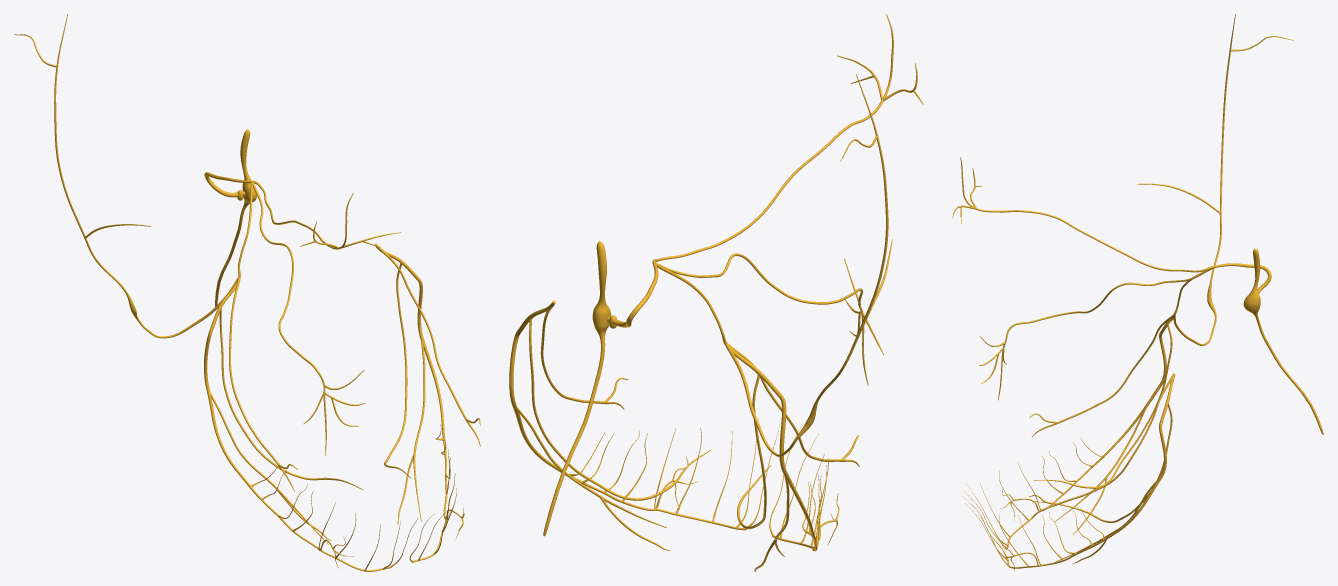
The model's file is nervoso-trigeminal-nerve-v-r.glb.
3 views of the same model, side by side, from view 1: azimuth 30°, elevation 25°; view 2: azimuth 150°, elevation 25°; view 3: azimuth 270°, elevation 25° (orthographic). The views are drawn at different scales.
Parts seen in each view (by area): view 1: Meningeal branch of maxillary nerve.r, Inferior alveolar nerve.r, Maxillary nerve.r, Inferior alveolar nerve.l, Sensory root of trigeminal nerve.r, Ophthalmic nerve.r, Lingual nerve.r, Trigeminal nerve (V).r, Lingual nerve.l, Nerve to mylohyoid muscle.l; view 2: Meningeal branch of maxillary nerve.r, Inferior alveolar nerve.l, Sensory root of trigeminal nerve.r, Ophthalmic nerve.r, Inferior alveolar nerve.r, Maxillary nerve.r, Lingual nerve.l, Trigeminal nerve (V).r, Nerve to mylohyoid muscle.l, Lingual nerve.r, Posterior division of mandibular nerve.r, Posterior division of mandibular nerve.l; view 3: Meningeal branch of maxillary nerve.r, Inferior alveolar nerve.l, Inferior alveolar nerve.r, Sensory root of trigeminal nerve.r, Ophthalmic nerve.r, Maxillary nerve.r, Lingual nerve.r, Nerve to mylohyoid muscle.r.
Boxes of the visible parts, box(x1,y1,x2,y2) form: Meningeal branch of maxillary nerve.r: box(14, 14, 238, 338); Inferior alveolar nerve.r: box(206, 388, 418, 571); Maxillary nerve.r: box(252, 182, 365, 455); Inferior alveolar nerve.l: box(409, 336, 460, 562); Sensory root of trigeminal nerve.r: box(215, 129, 256, 306); Ophthalmic nerve.r: box(252, 180, 401, 249); Lingual nerve.r: box(219, 309, 363, 489); Trigeminal nerve (V).r: box(204, 172, 253, 277); Lingual nerve.l: box(384, 263, 411, 478); Nerve to mylohyoid muscle.l: box(397, 339, 425, 524); Meningeal branch of maxillary nerve.r: box(725, 74, 892, 456); Inferior alveolar nerve.l: box(513, 405, 780, 530); Sensory root of trigeminal nerve.r: box(543, 241, 611, 536); Ophthalmic nerve.r: box(652, 14, 923, 263); Inferior alveolar nerve.r: box(769, 426, 835, 551); Maxillary nerve.r: box(657, 253, 883, 385); Lingual nerve.l: box(529, 319, 710, 500); Trigeminal nerve (V).r: box(607, 262, 727, 344); Nerve to mylohyoid muscle.l: box(516, 407, 670, 550); Lingual nerve.r: box(737, 375, 771, 529); Posterior division of mandibular nerve.r: box(729, 346, 786, 472); Posterior division of mandibular nerve.l: box(509, 301, 555, 407); Meningeal branch of maxillary nerve.r: box(1136, 14, 1293, 345); Inferior alveolar nerve.l: box(962, 476, 1161, 568); Inferior alveolar nerve.r: box(962, 384, 1162, 548); Sensory root of trigeminal nerve.r: box(1243, 248, 1323, 434); Ophthalmic nerve.r: box(952, 157, 1213, 272); Maxillary nerve.r: box(979, 268, 1213, 400); Lingual nerve.r: box(1033, 324, 1172, 488); Nerve to mylohyoid muscle.r: box(1054, 386, 1160, 534).
Size of the model in its own units: 0.1135 by 0.1636 by 0.1221.
